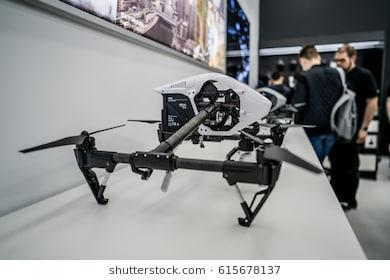drone: (18, 80, 324, 228)
